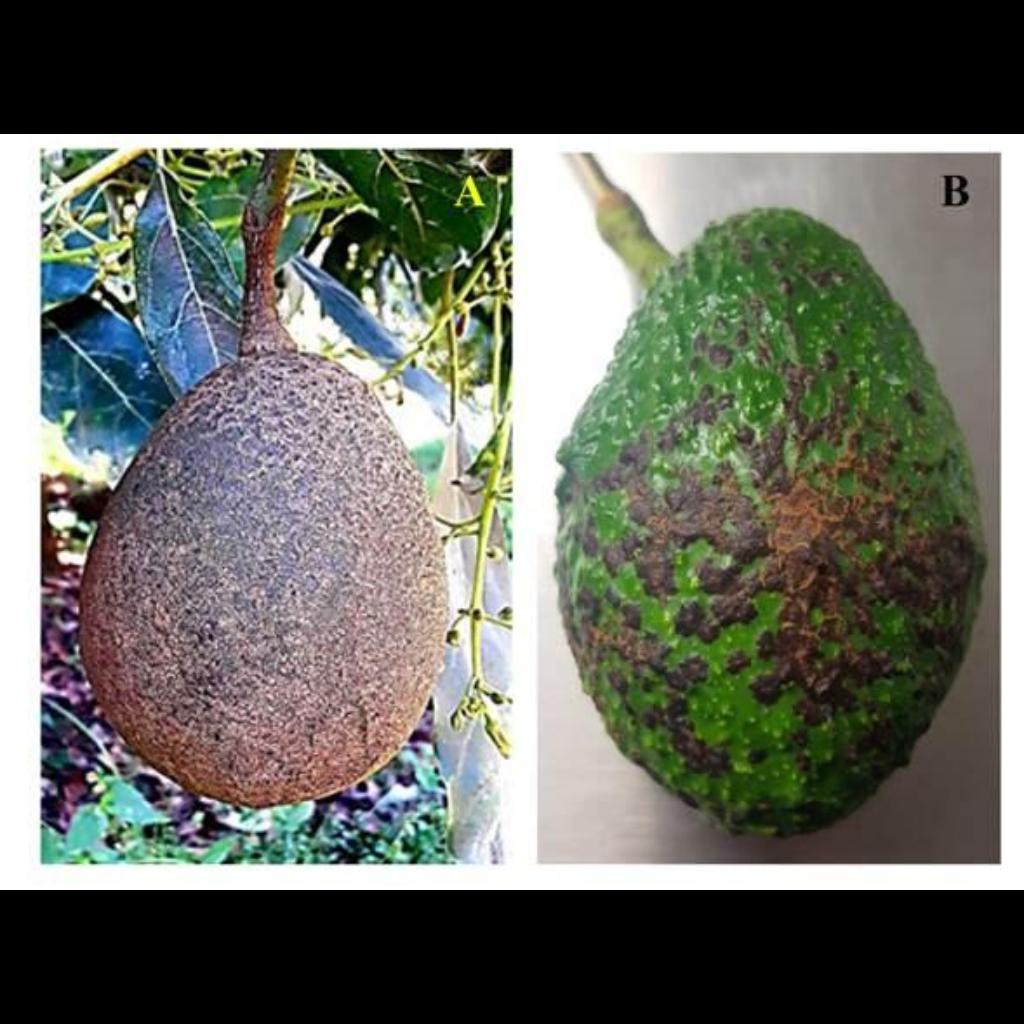cercospora_spot: (526, 190, 996, 832), (66, 314, 468, 830), (179, 340, 485, 756)
